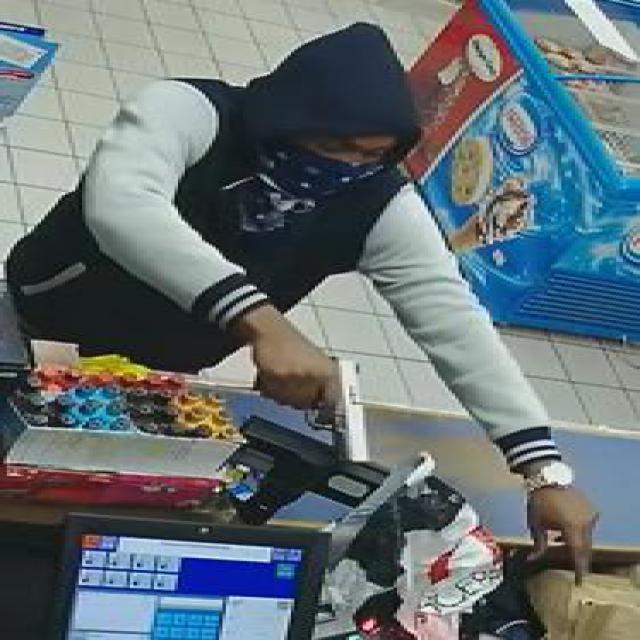Gun: (254, 347, 376, 463)
